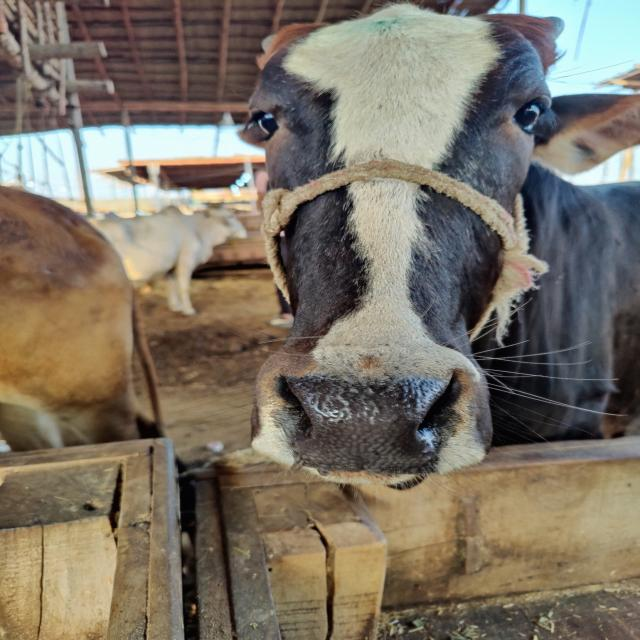muzzles: (262, 365, 476, 480)
